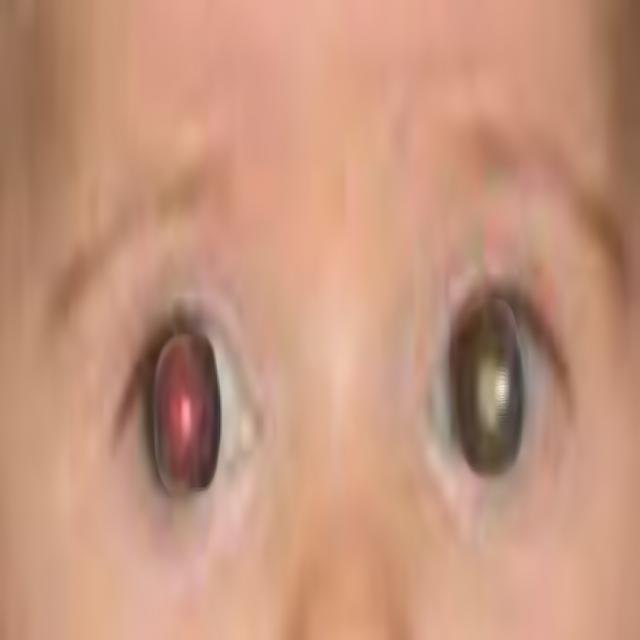reflexo-alterado: (424, 258, 574, 546)
reflexo-normal: (115, 262, 250, 536)
